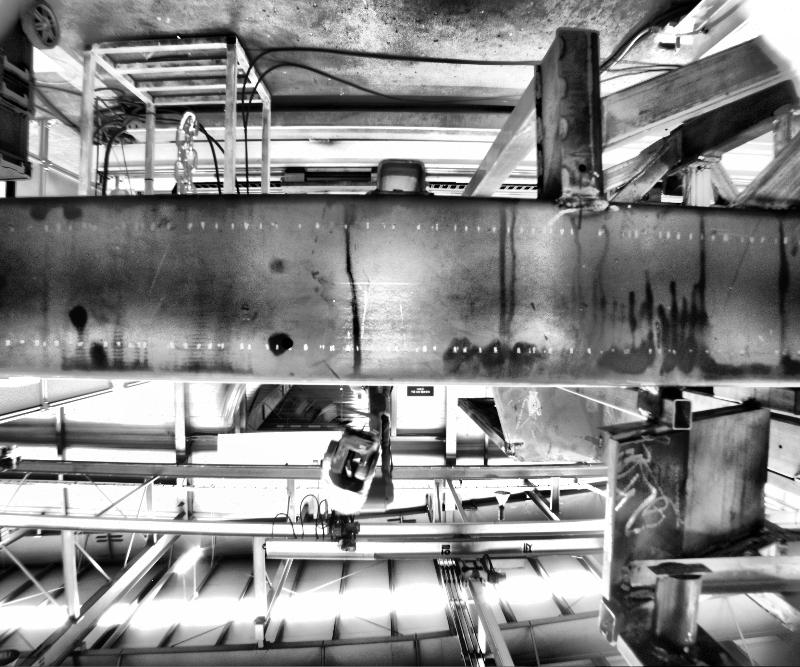bracket: (364, 157, 436, 200)
hole: (282, 336, 292, 348), (576, 162, 586, 171)
welding: (558, 189, 602, 209)
